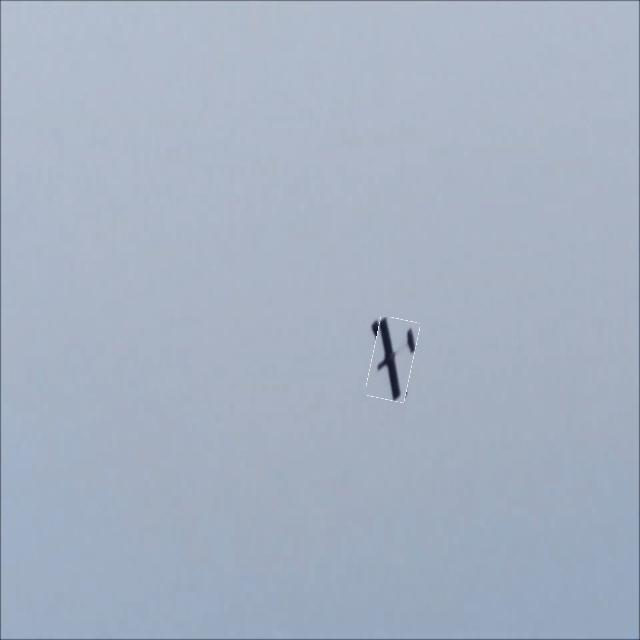iha: (355, 343, 413, 375)
